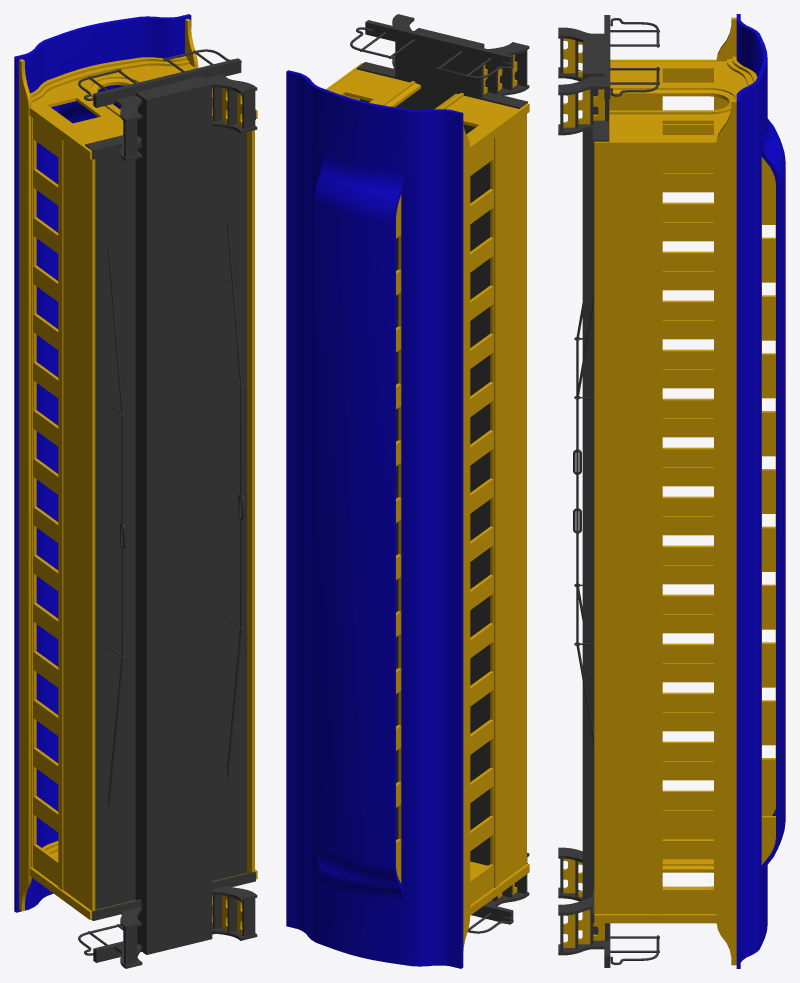
Rendered from PassengerWagon_01_LOD1.fbx.
3 renders of one model, left to right at view 1: azimuth 30°, elevation 25°; view 2: azimuth 150°, elevation 25°; view 3: azimuth 270°, elevation 25°, orthographic.
Parts seen in each view (by area): view 1: PassengerWagon_01_LOD1; view 2: PassengerWagon_01_LOD1; view 3: PassengerWagon_01_LOD1.
Boxes of the visible parts, bbox=[...] form: PassengerWagon_01_LOD1: bbox=[14, 14, 257, 968]; PassengerWagon_01_LOD1: bbox=[286, 14, 529, 968]; PassengerWagon_01_LOD1: bbox=[558, 14, 785, 968].
Bounding box in the file's own units: 4.06 × 19.24 × 4.5.
